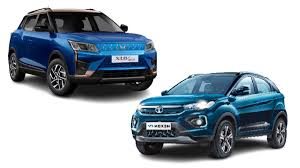XUV 400: (7, 6, 159, 98)
